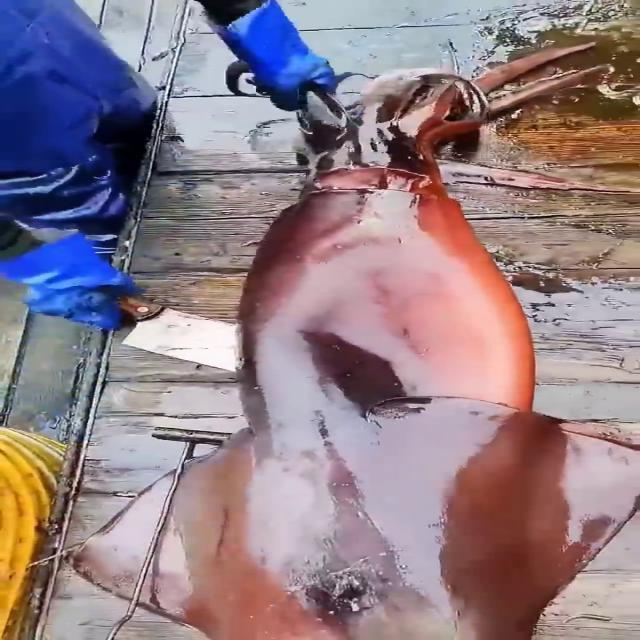squid: (72, 45, 640, 640)
